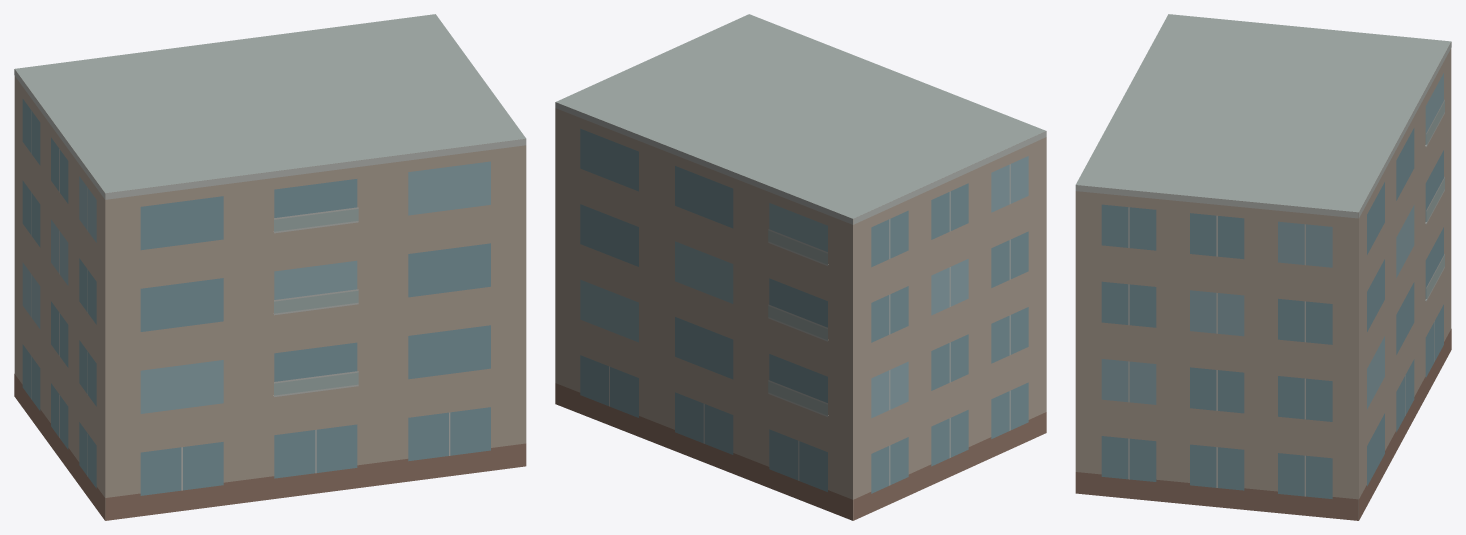
The model's file is residential-1c30b471-037b-4e95-8f59-70d0384a9507.glb.
The picture shows the model from 3 angles, left to right: view 1: azimuth 30°, elevation 25°; view 2: azimuth 150°, elevation 25°; view 3: azimuth 270°, elevation 25°; orthographic projection. The views are drawn at different scales.
Parts seen in each view (by area): view 1: residential-1c30b471-037b-4e95-8f59-70d0384a9507.tmp; view 2: residential-1c30b471-037b-4e95-8f59-70d0384a9507.tmp; view 3: residential-1c30b471-037b-4e95-8f59-70d0384a9507.tmp.
Part boxes in pixels (x1=…): residential-1c30b471-037b-4e95-8f59-70d0384a9507.tmp: x1=14, y1=14, x2=526, y2=520; residential-1c30b471-037b-4e95-8f59-70d0384a9507.tmp: x1=555, y1=14, x2=1046, y2=520; residential-1c30b471-037b-4e95-8f59-70d0384a9507.tmp: x1=1075, y1=14, x2=1451, y2=520.
Bounding box in the file's own units: 16.83 × 12.2 × 13.48.
